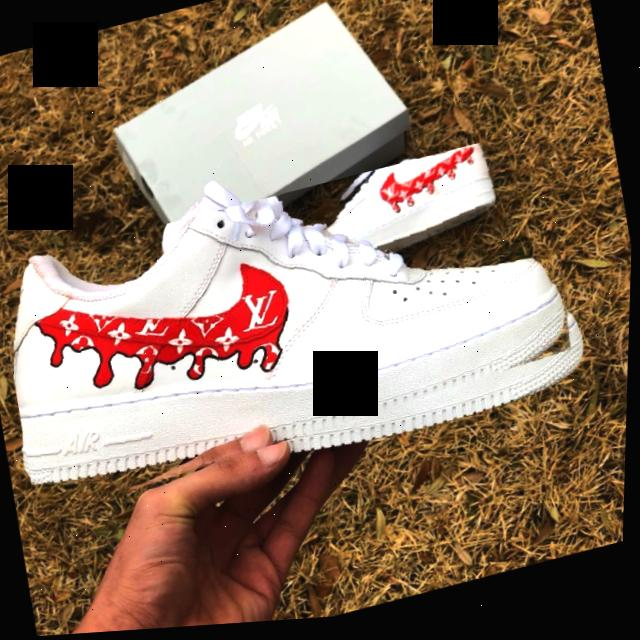shoe: (0, 129, 600, 525), (329, 147, 514, 285)
